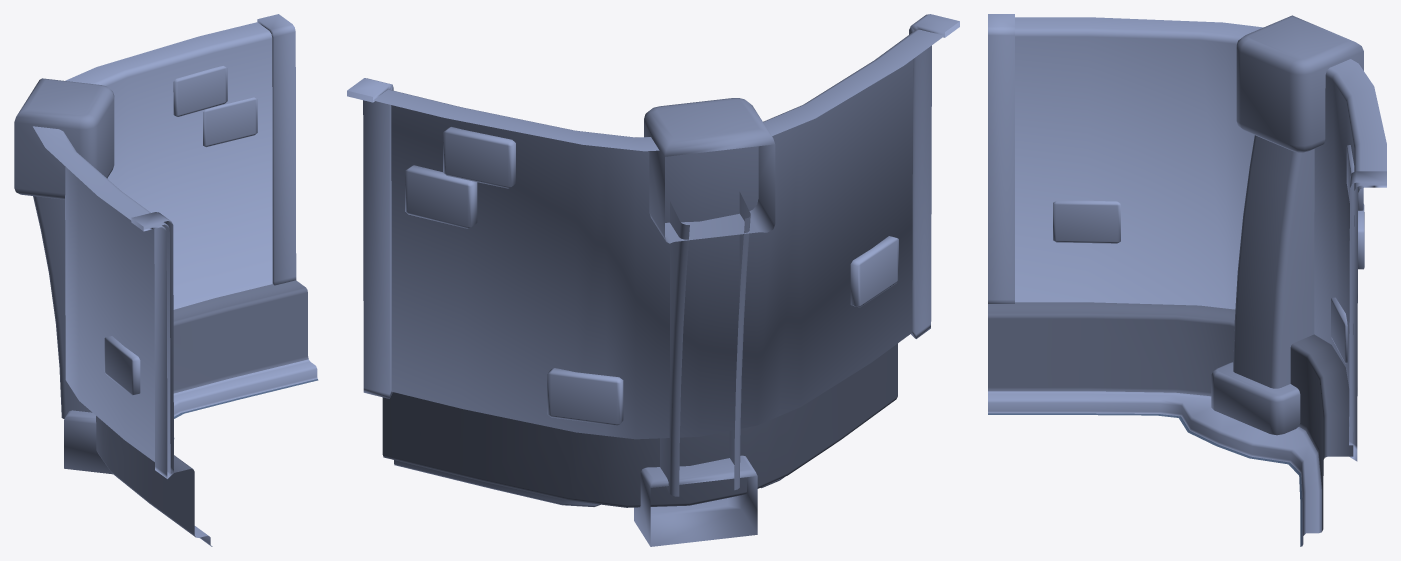
File: 2_Wall_C.glb
3 views of the same model, side by side, from view 1: azimuth 30°, elevation 25°; view 2: azimuth 150°, elevation 25°; view 3: azimuth 270°, elevation 25° (orthographic). The views are drawn at different scales.
Visible parts, largest first — view 1: 2_Wall_C; view 2: 2_Wall_C; view 3: 2_Wall_C.
Boxes of the visible parts, bbox=[...] form: 2_Wall_C: bbox=[14, 14, 318, 546]; 2_Wall_C: bbox=[347, 14, 959, 546]; 2_Wall_C: bbox=[988, 14, 1386, 546].
Size of the model in its own units: 4 by 4.2 by 4.
